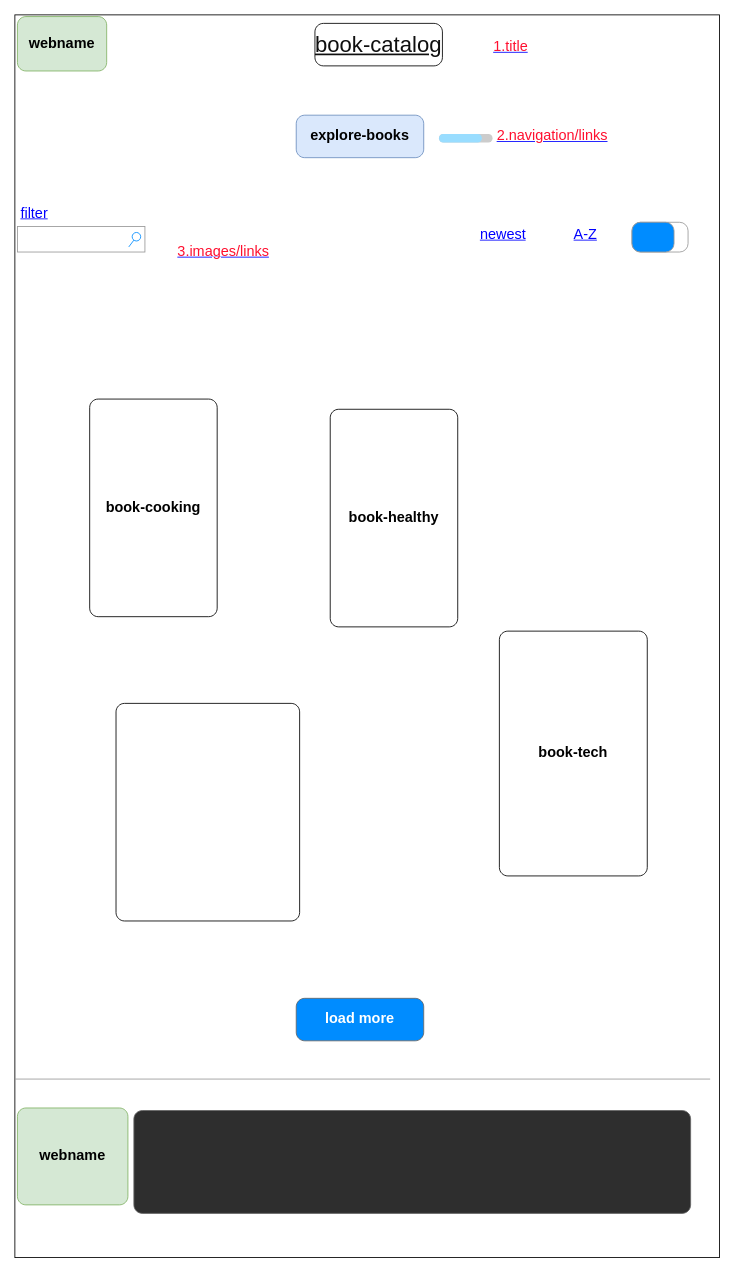
The diagram is 734 pixels wide and 1272 high, and some of its shapes have lost their labels. Each missing label, with the centre of its shape:
"address: email: privacy:" goes at point 412,1161.
"book-beauty" goes at point 207,812.
"ON" goes at point 659,236.
"Search" goes at point 81,239.
